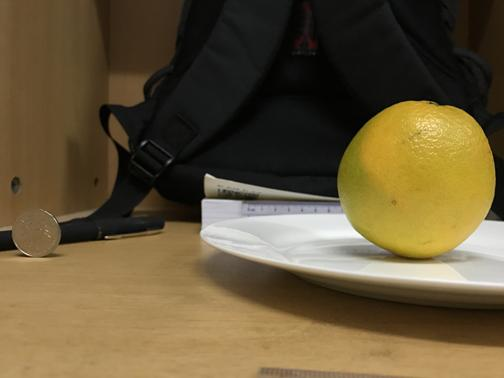coin: (10, 206, 60, 258)
orange: (335, 99, 495, 259)
